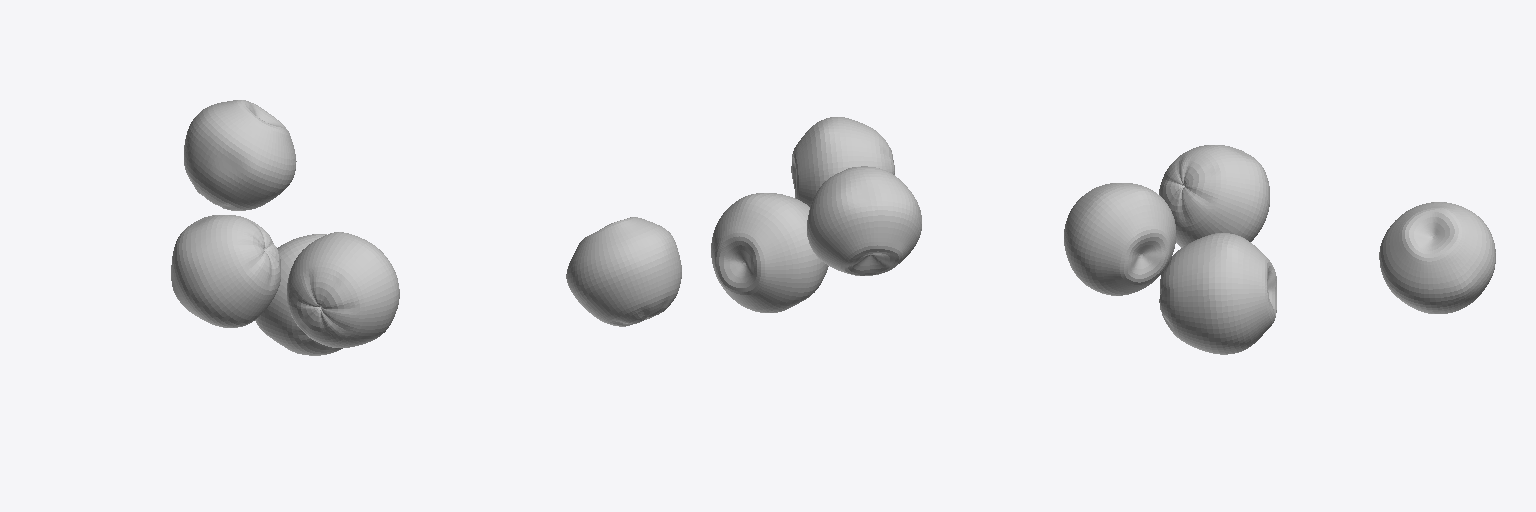
File: apples.obj
3 views of the same model, side by side, from view 1: azimuth 30°, elevation 25°; view 2: azimuth 150°, elevation 25°; view 3: azimuth 270°, elevation 25° (orthographic).
Parts seen in each view (by area): view 1: apple.005_Sphere.011, apple_Sphere, apple.002_Sphere.005, apple.003_Sphere.008; view 2: apple.003_Sphere.008, apple_Sphere, apple.002_Sphere.005, apple.005_Sphere.011; view 3: apple.003_Sphere.008, apple.002_Sphere.005, apple.005_Sphere.011, apple_Sphere.
Part boxes in pixels (bbox=[...]): apple.005_Sphere.011: bbox=[287, 232, 399, 347]; apple_Sphere: bbox=[171, 215, 280, 327]; apple.002_Sphere.005: bbox=[184, 100, 296, 210]; apple.003_Sphere.008: bbox=[255, 234, 342, 355]; apple.003_Sphere.008: bbox=[711, 193, 828, 312]; apple_Sphere: bbox=[807, 166, 921, 275]; apple.002_Sphere.005: bbox=[566, 217, 681, 326]; apple.005_Sphere.011: bbox=[791, 117, 894, 206]; apple.003_Sphere.008: bbox=[1159, 233, 1276, 354]; apple.002_Sphere.005: bbox=[1379, 202, 1495, 313]; apple.005_Sphere.011: bbox=[1064, 183, 1175, 295]; apple_Sphere: bbox=[1159, 145, 1269, 247].
Size of the model in its own units: 1.28 by 0.8588 by 2.14.